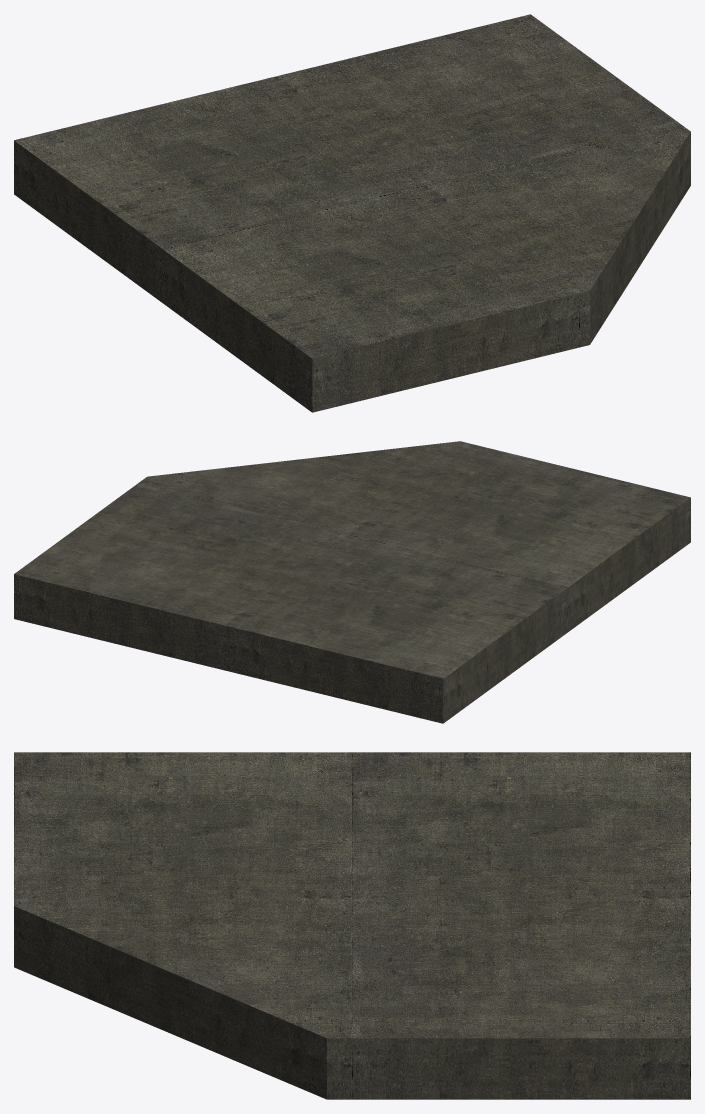
File: floor_ceiling_hr_5_m2a_1.glb
The picture shows the model from 3 angles, top to bottom: view 1: azimuth 30°, elevation 25°; view 2: azimuth 150°, elevation 25°; view 3: azimuth 270°, elevation 25°; orthographic projection. The views are drawn at different scales.
Parts seen in each view (by area): view 1: floor_ceiling_hr_5_m2a_1; view 2: floor_ceiling_hr_5_m2a_1; view 3: floor_ceiling_hr_5_m2a_1.
Part boxes in pixels (box(x1,y1,x2,y2)): floor_ceiling_hr_5_m2a_1: box(14, 14, 690, 412); floor_ceiling_hr_5_m2a_1: box(14, 441, 690, 723); floor_ceiling_hr_5_m2a_1: box(14, 752, 690, 1099).
Bounding box in the file's own units: 4 × 0.4 × 4.
1 material, 1 textured.
